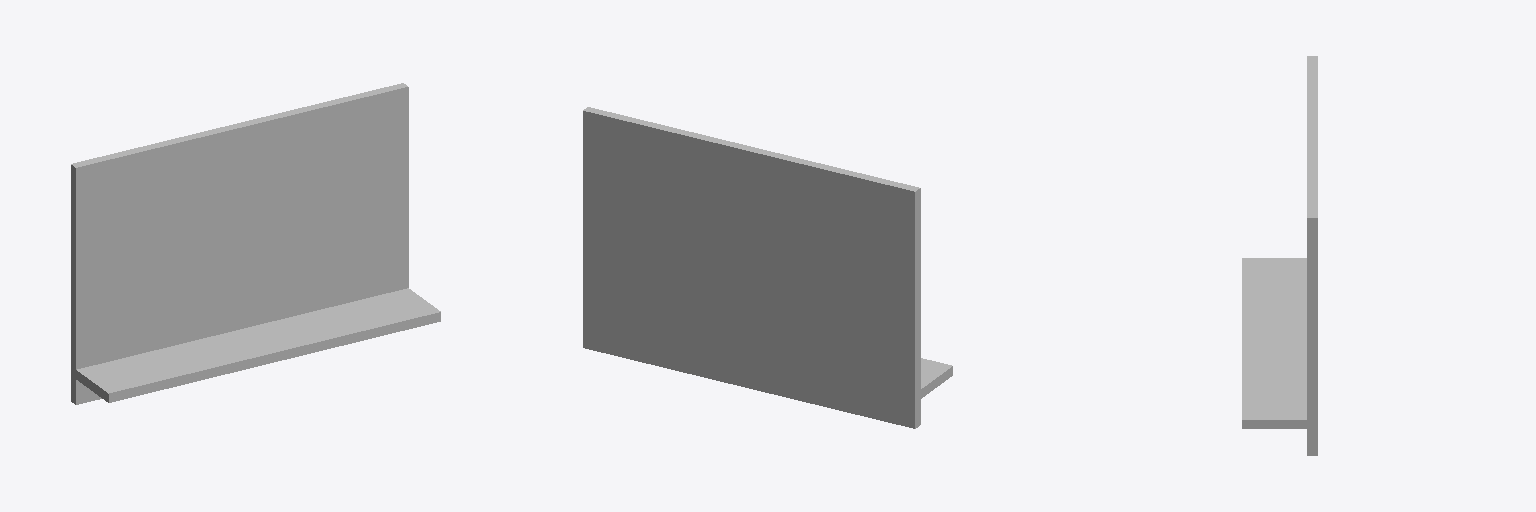
Rendered from BIROLATERALc.obj.
3 renders of one model, left to right at view 1: azimuth 30°, elevation 25°; view 2: azimuth 150°, elevation 25°; view 3: azimuth 270°, elevation 25°, orthographic.
Size of the model in its own units: 10.03 by 6.84 by 1.98.